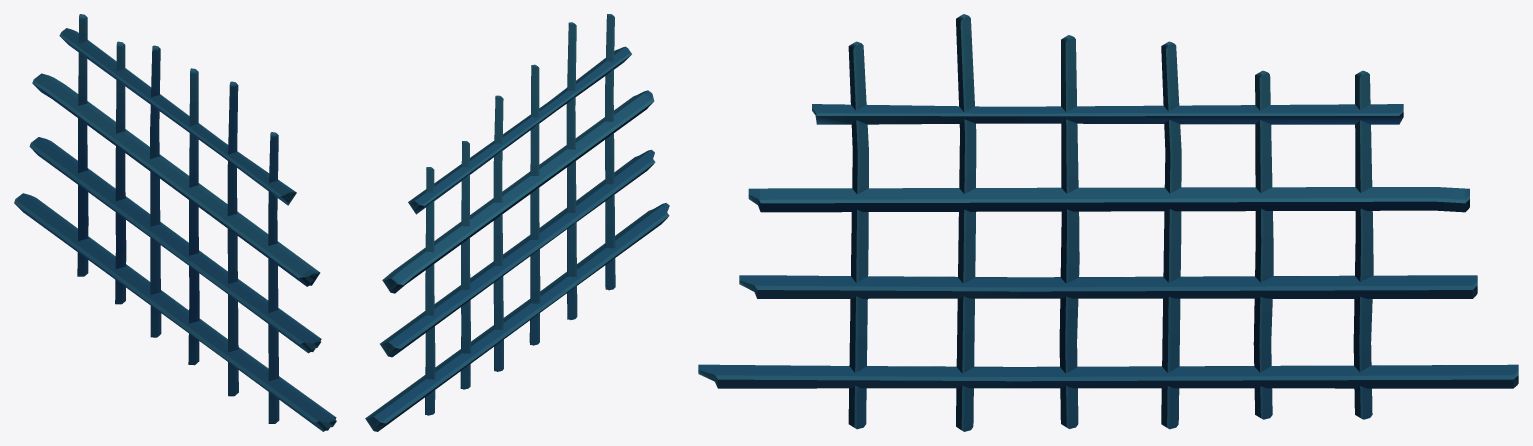
File: Modular_Dungeon_Tunnel_Grate.fbx
3 views of the same model, side by side, from view 1: azimuth 30°, elevation 25°; view 2: azimuth 150°, elevation 25°; view 3: azimuth 270°, elevation 25° (orthographic). The views are drawn at different scales.
Visible parts, largest first — view 1: Tunnel_Grate; view 2: Tunnel_Grate; view 3: Tunnel_Grate.
Part boxes in pixels (x1,y1,x2,y2): Tunnel_Grate: (14, 14, 336, 431); Tunnel_Grate: (365, 14, 669, 431); Tunnel_Grate: (698, 14, 1518, 431).
Bounding box in the file's own units: 0.1771 × 2.38 × 4.29.
1 material, 1 textured.
